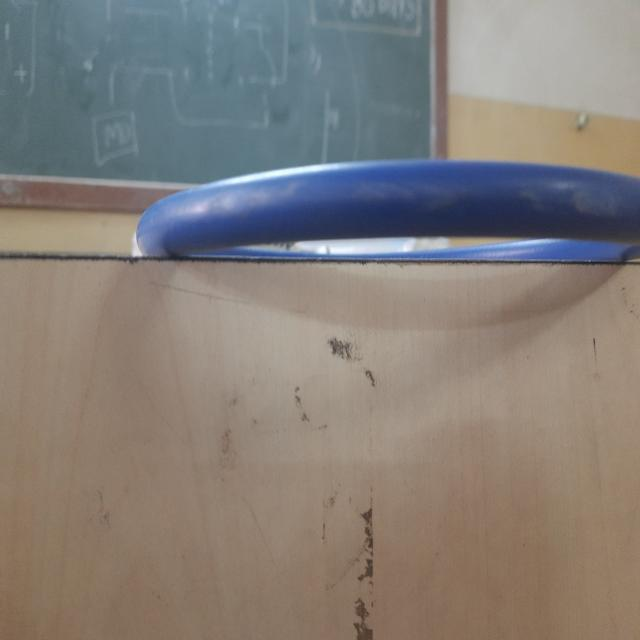daire: (137, 159, 640, 263)
